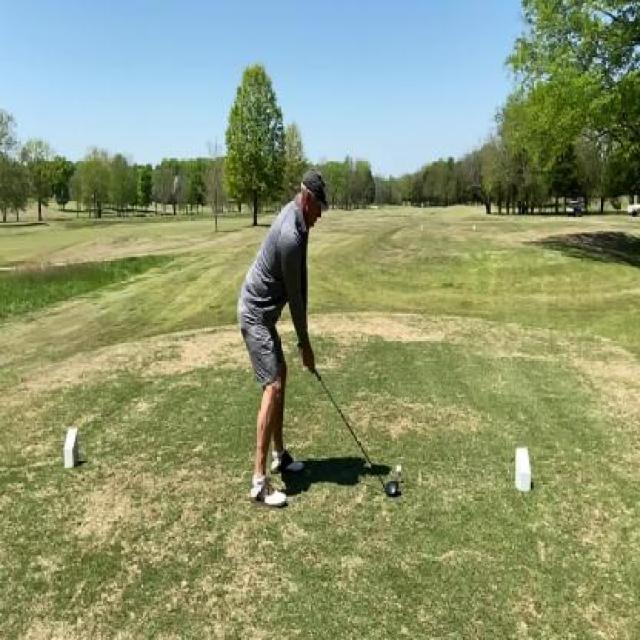club head: (378, 478, 400, 498)
